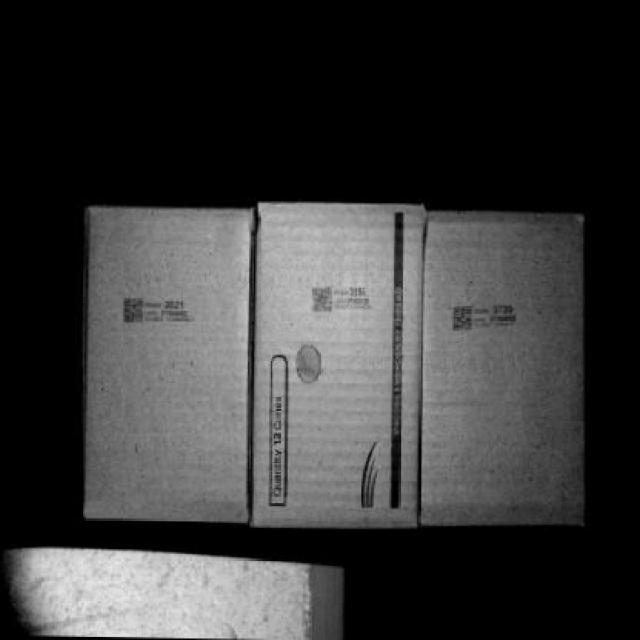cardboxes: (256, 204, 424, 534), (84, 202, 256, 520), (424, 206, 582, 534)
